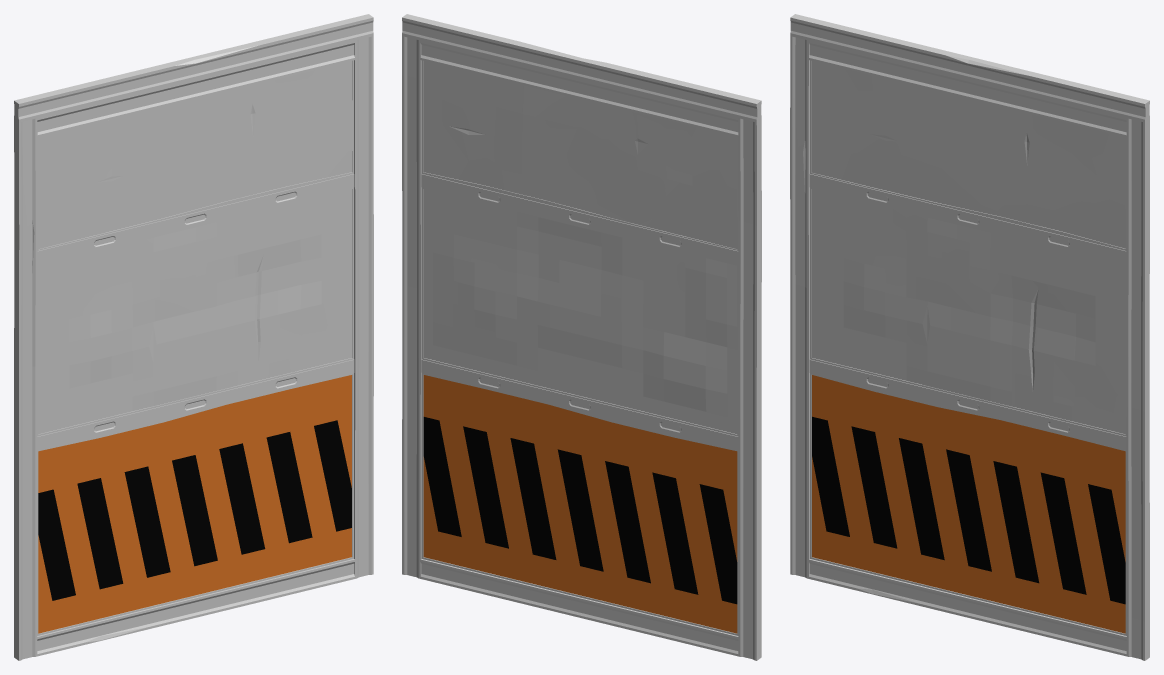
File: SM_Wall_02.glb
3 views of the same model, side by side, from view 1: azimuth 30°, elevation 25°; view 2: azimuth 150°, elevation 25°; view 3: azimuth 330°, elevation 25° (orthographic).
Parts seen in each view (by area): view 1: SM_Wall_02; view 2: SM_Wall_02; view 3: SM_Wall_02.
Part boxes in pixels (x1,y1,x2,y2): SM_Wall_02: [14, 14, 373, 660]; SM_Wall_02: [402, 14, 761, 660]; SM_Wall_02: [790, 14, 1149, 660].
Size of the model in its own units: 2 by 3 by 0.05.
